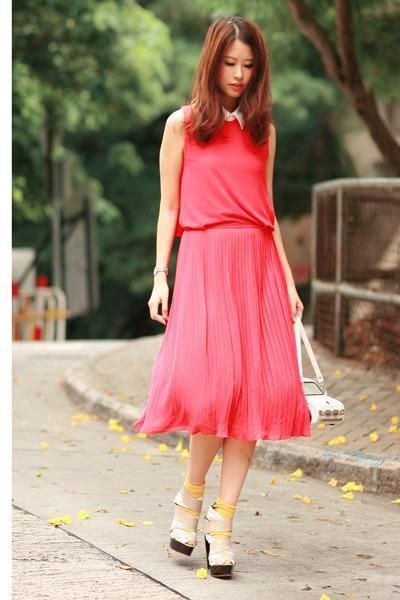dress: (132, 101, 312, 448)
